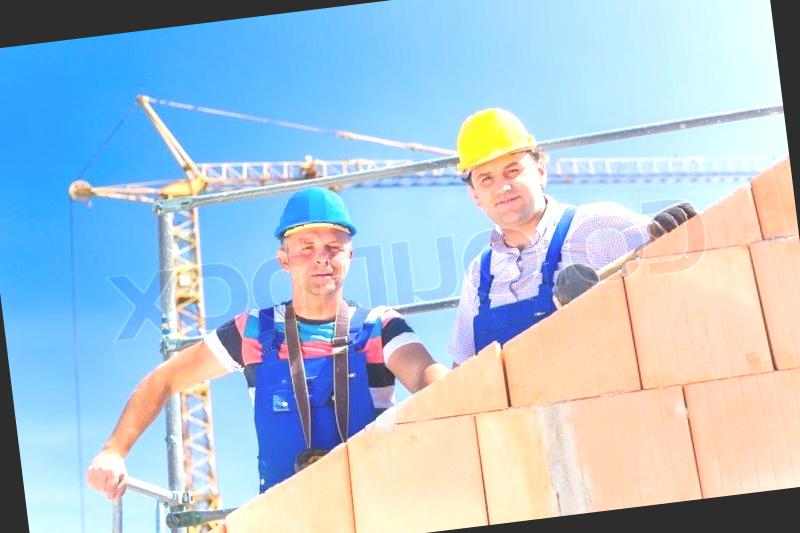helmet: (446, 100, 554, 186), (264, 175, 365, 256)
person: (222, 173, 405, 426), (438, 90, 626, 327)
